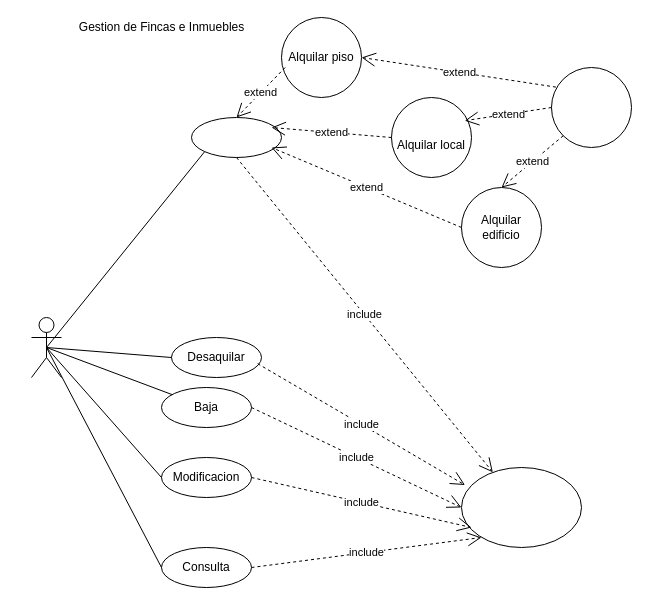
Image size: 649x605. Some labels were removed from this diagram. Each missing label, with the centre of its shape:
"Alquilar" belongs at (x=236, y=137).
"Alta Inquilino" belongs at (x=591, y=107).
"Indentificacion" belongs at (x=521, y=507).
"Propietario" belongs at (x=46, y=347).
